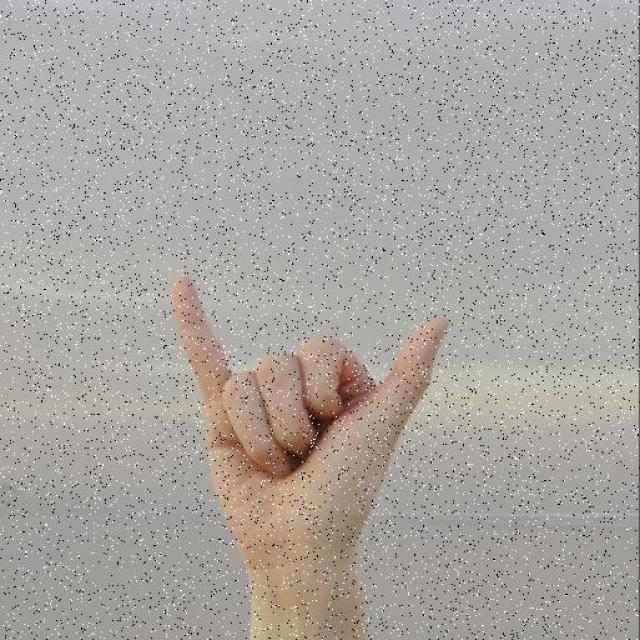Y: (172, 275, 452, 563)
